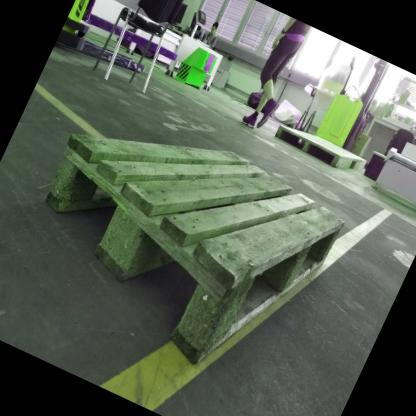BoxFace: (37, 134, 348, 370), (275, 124, 367, 172)
